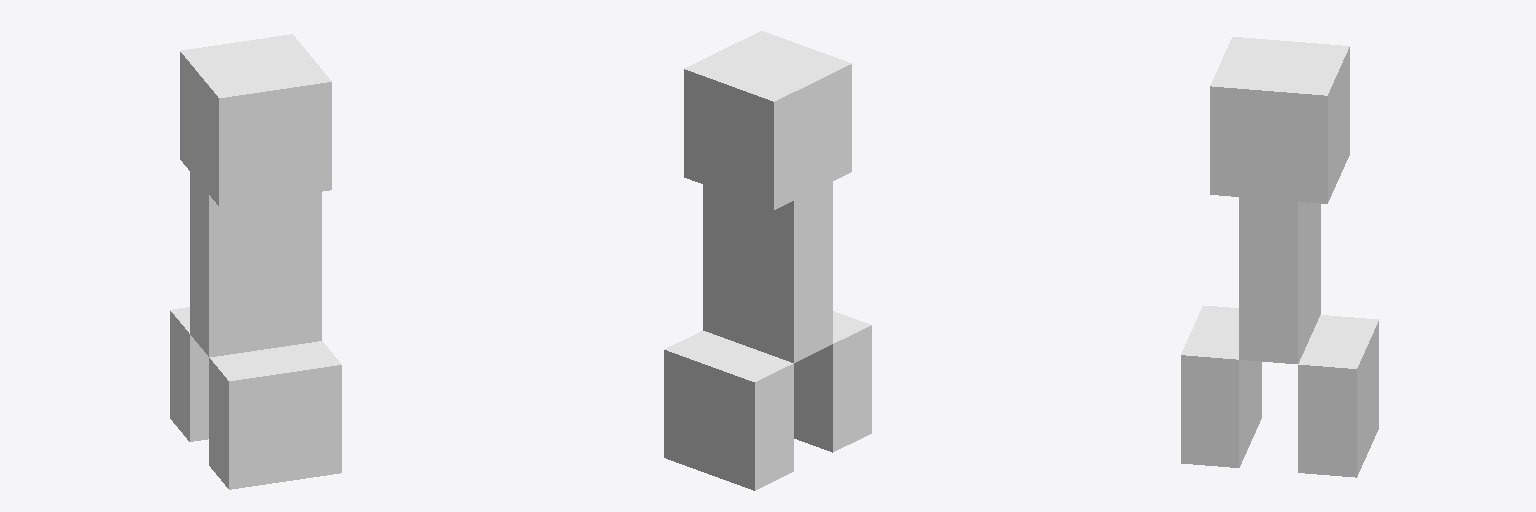
Rendered from creeper.obj.
3 views of the same model, side by side, from view 1: azimuth 30°, elevation 25°; view 2: azimuth 150°, elevation 25°; view 3: azimuth 270°, elevation 25° (orthographic).
Size of the model in its own units: 86.49 by 240 by 114.